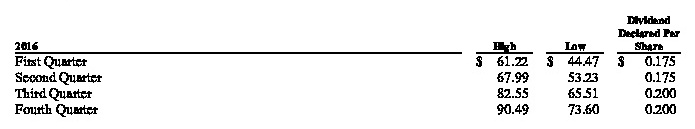table: (0, 0, 695, 129)
